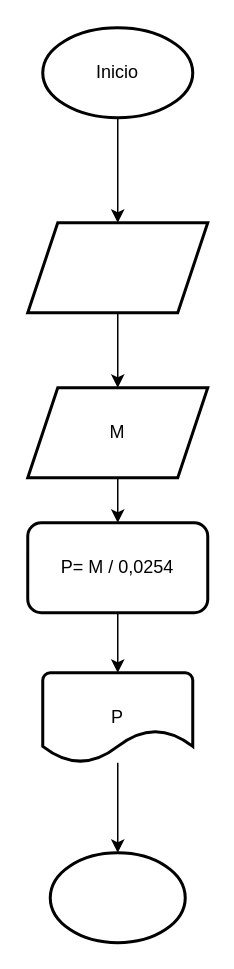
The diagram is 234 pixels wide and 969 high, and some of its shapes have lost their labels. Each missing label, with the centre of its shape:
"FIn" goes at pixel 117 897.
"MP = 0,0254" goes at pixel 117 267.
